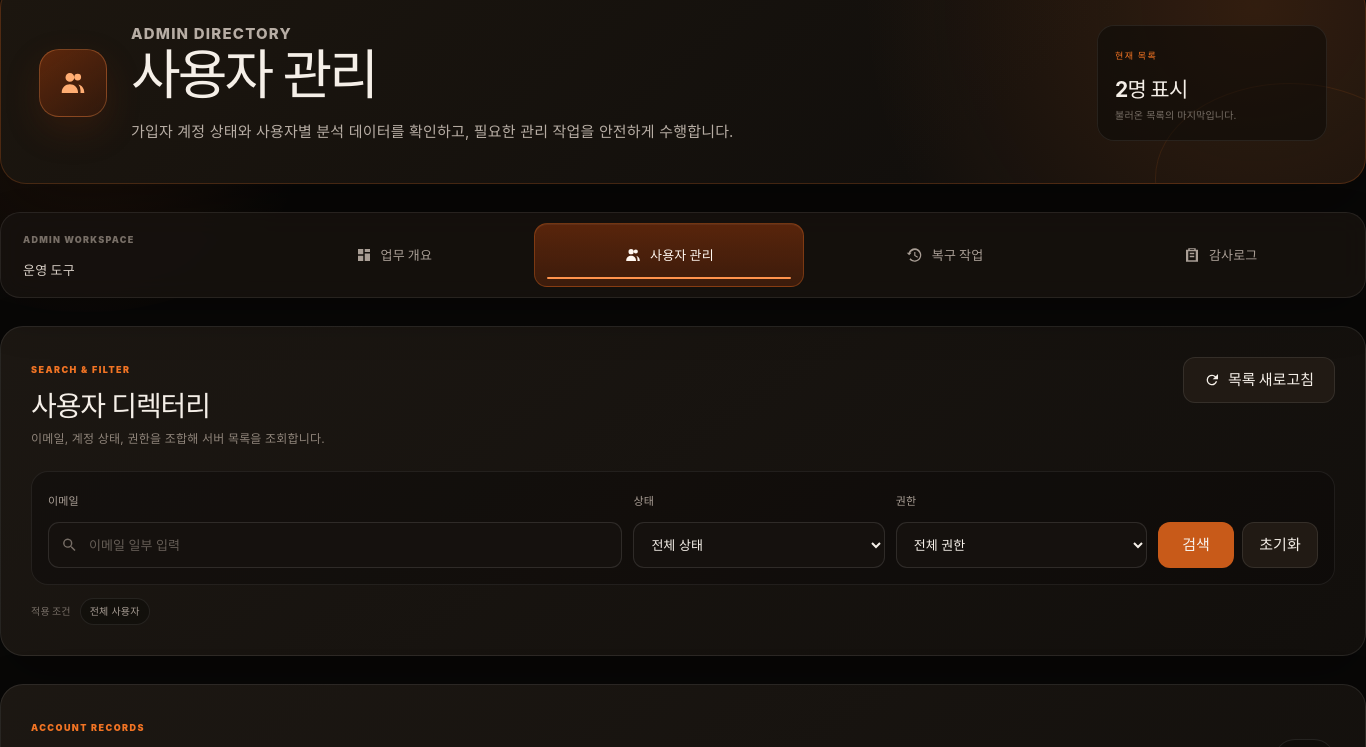
Test: AdminUsersPage › distinguishes a filtered empty result and clears the applied conditions
The width and height of the screenshot is (1366, 747).
Type "nobody@example.com" into the search field labelled "이메일" at (335, 545), box [48,522,622,568]
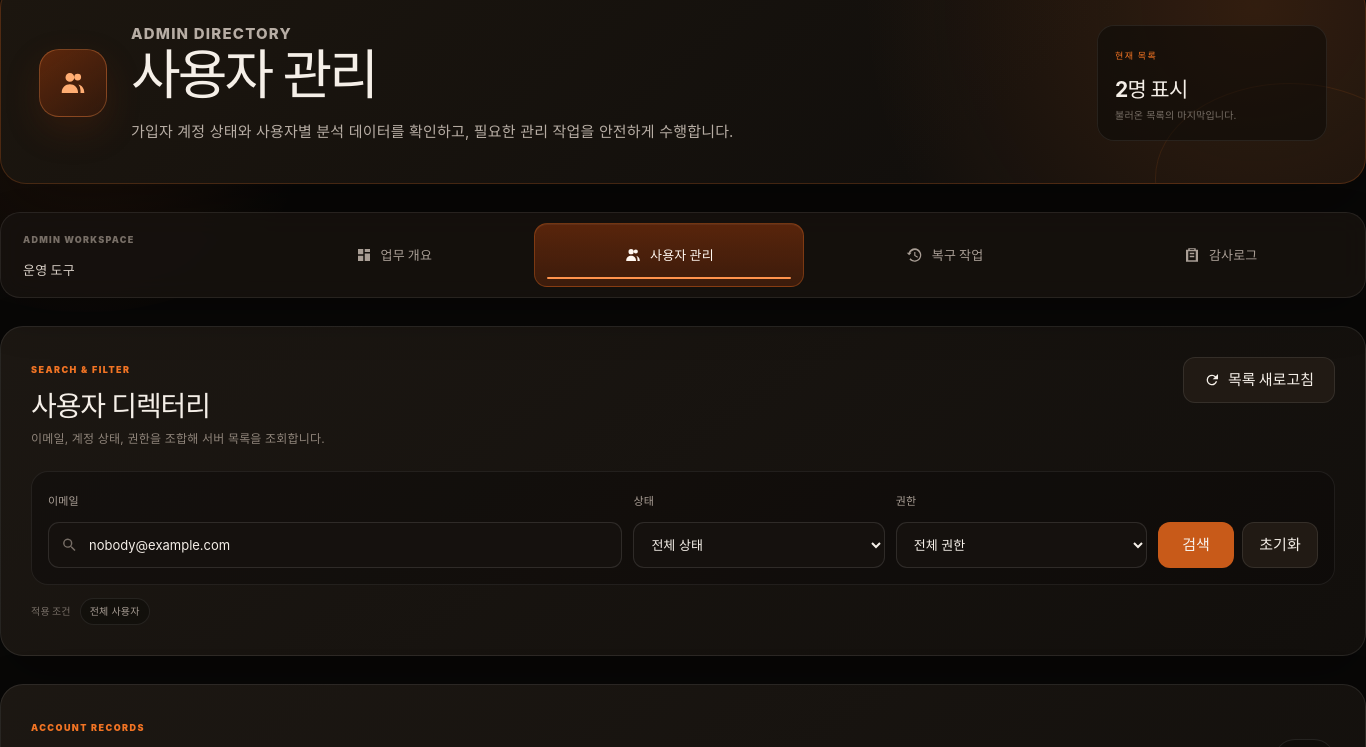
Click the button "검색" at (1196, 545), box [1158,522,1234,568]
(page scrolled)
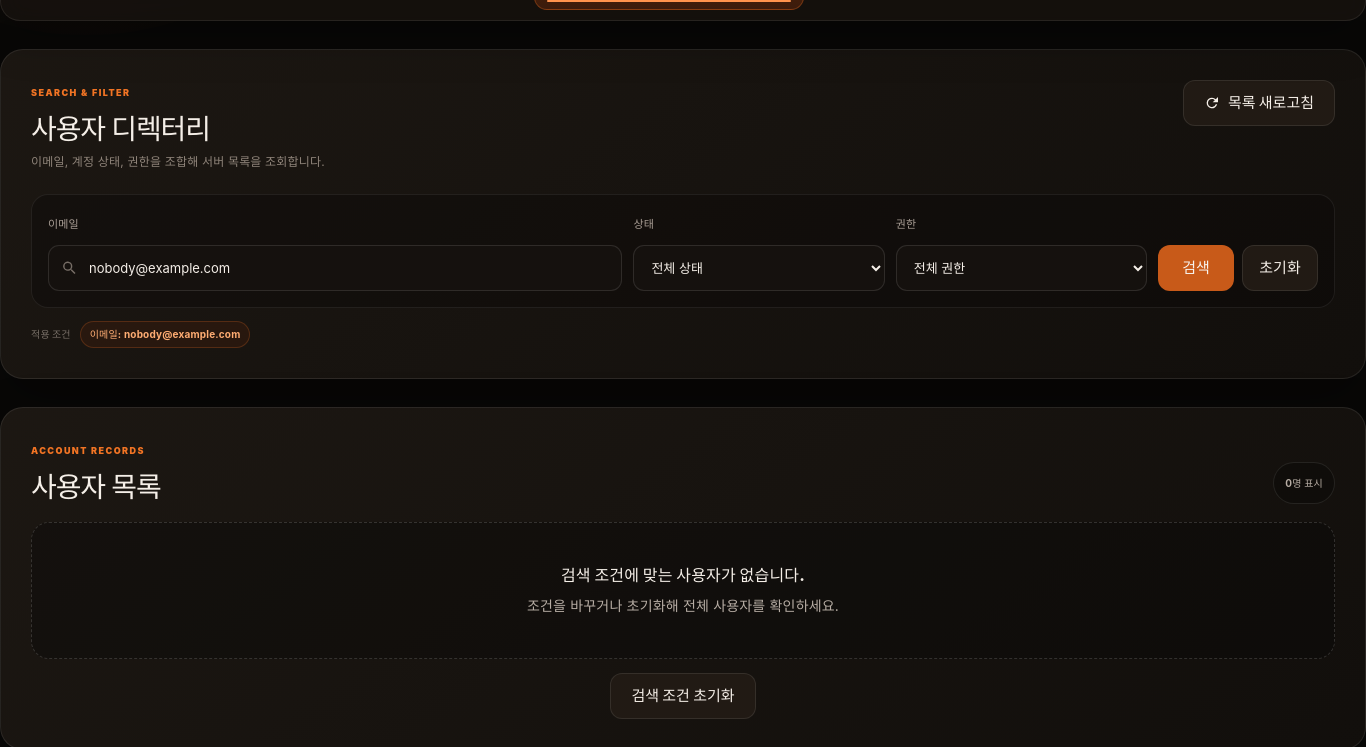
Expected: the text "검색 조건에 맞는 사용자가 없습니다." is shown, [561,565,805,585]
Click the button "검색 조건 초기화" at (683, 696), box [610,673,756,719]
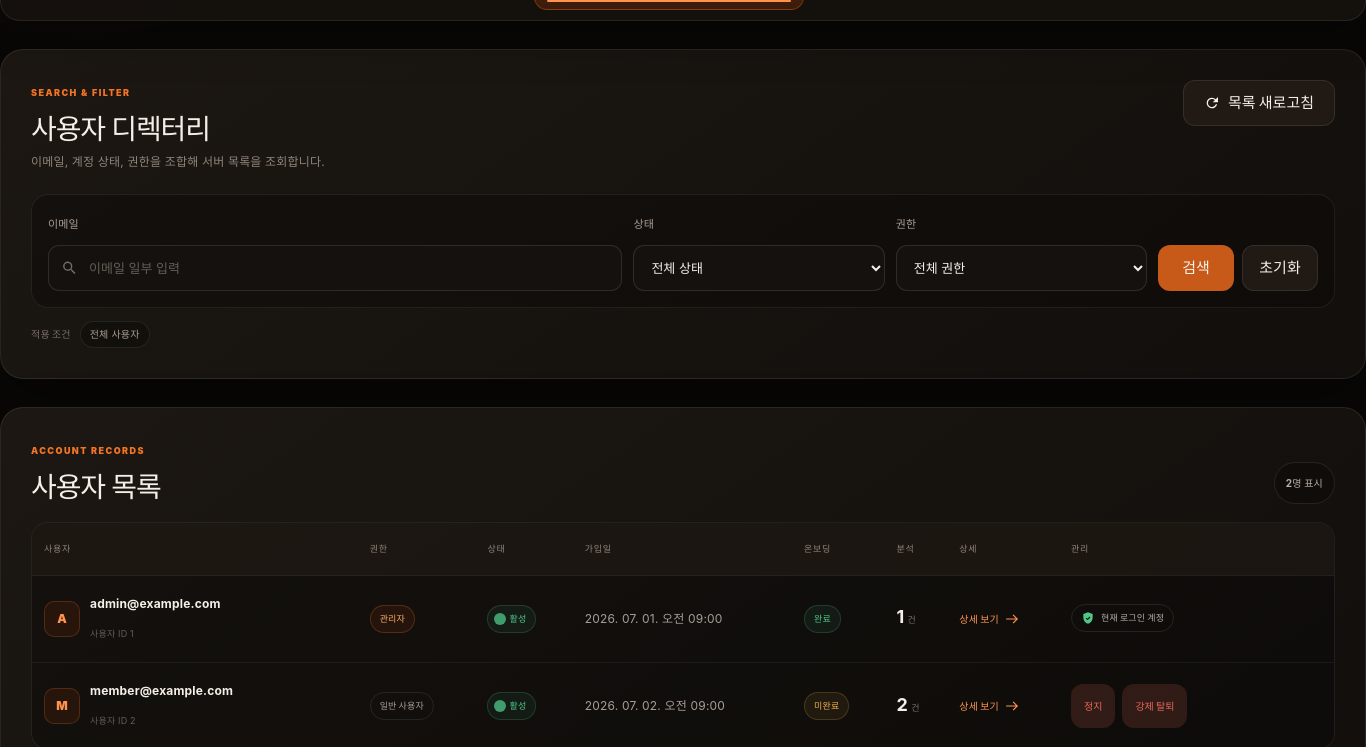
Expected: the text "member@example.com" is shown, [90,683,233,698]
